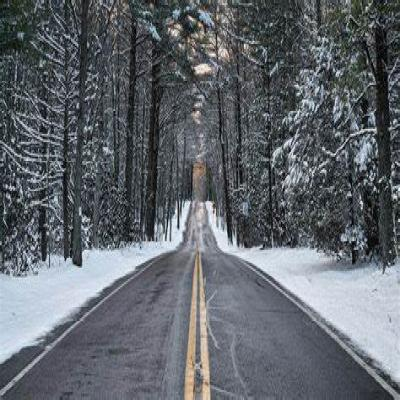iced-road: (5, 204, 392, 400)
